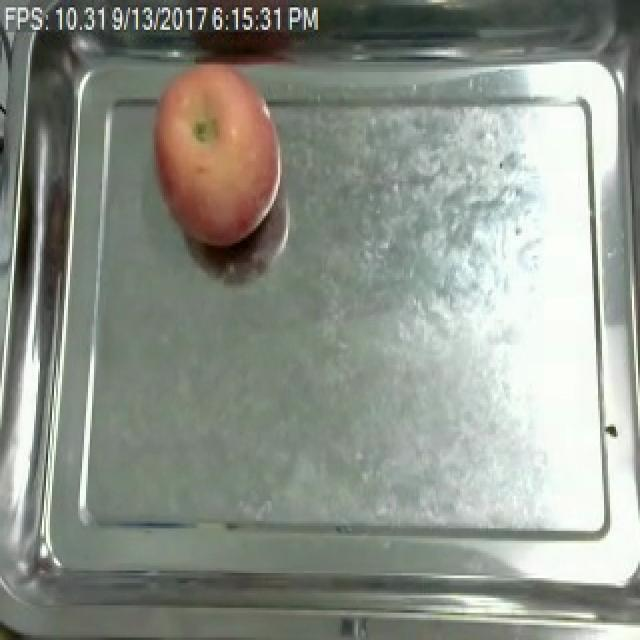apple: (152, 63, 281, 247)
